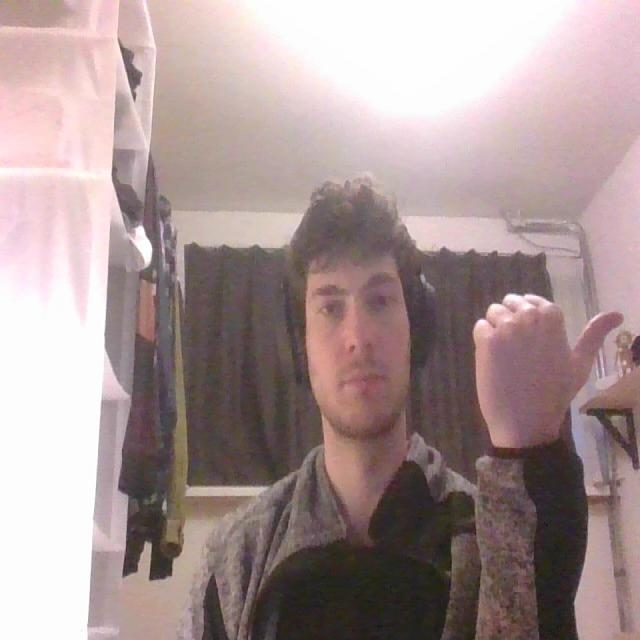right: (466, 282, 628, 446)
